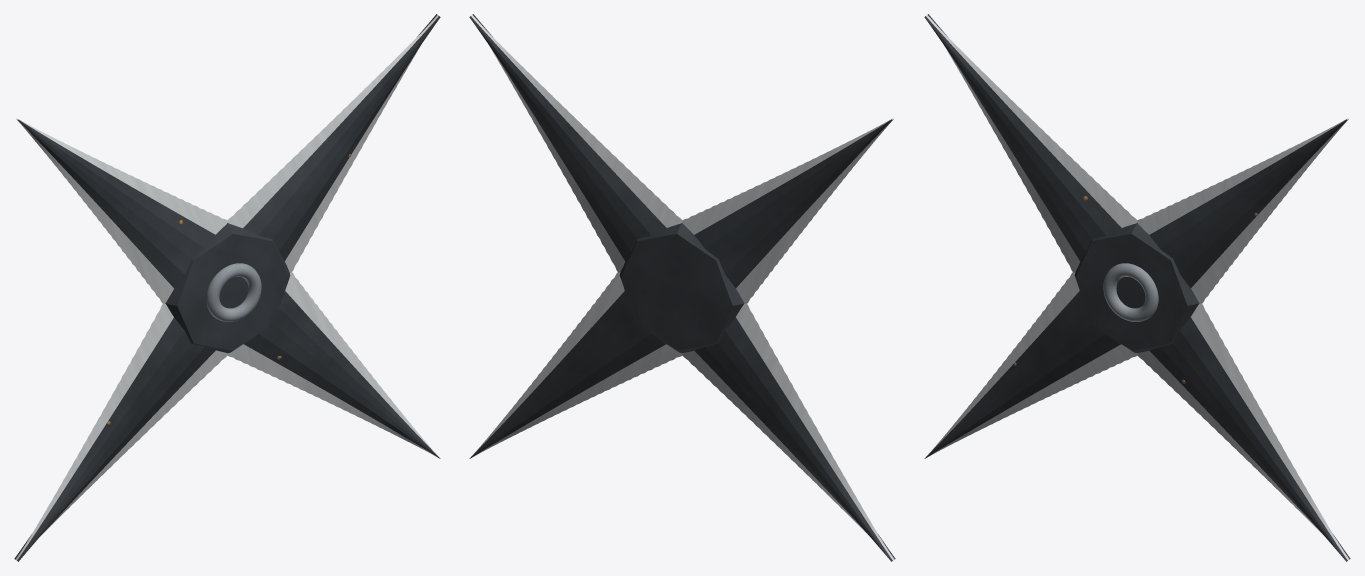
File: shuriken.glb
3 renders of one model, left to right at view 1: azimuth 30°, elevation 25°; view 2: azimuth 150°, elevation 25°; view 3: azimuth 330°, elevation 25°, orthographic.
Visible parts, largest first — view 1: darksteel / oil-blackened fittings, edge / honed bright bevel, steel / forged blade steel; view 2: darksteel / oil-blackened fittings, edge / honed bright bevel; view 3: darksteel / oil-blackened fittings, edge / honed bright bevel, steel / forged blade steel.
Boxes of the visible parts, bbox=[...] form: darksteel / oil-blackened fittings: bbox=[14, 14, 440, 561]; edge / honed bright bevel: bbox=[15, 15, 438, 560]; steel / forged blade steel: bbox=[206, 263, 261, 321]; darksteel / oil-blackened fittings: bbox=[469, 14, 895, 561]; edge / honed bright bevel: bbox=[471, 15, 894, 560]; darksteel / oil-blackened fittings: bbox=[924, 14, 1350, 561]; edge / honed bright bevel: bbox=[926, 15, 1349, 560]; steel / forged blade steel: bbox=[1103, 263, 1158, 321].
Size of the model in its own units: 0.2408 by 0.2408 by 0.0155.
Materials: 4 (3 with a texture image).
